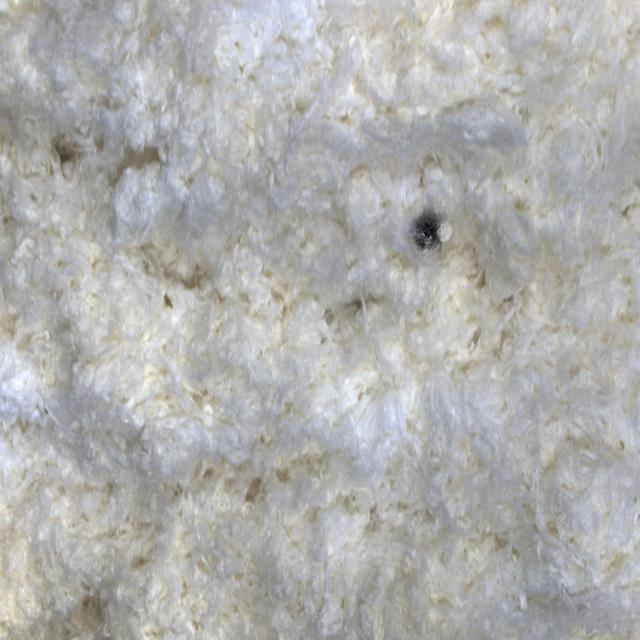dust: (398, 180, 463, 284)
